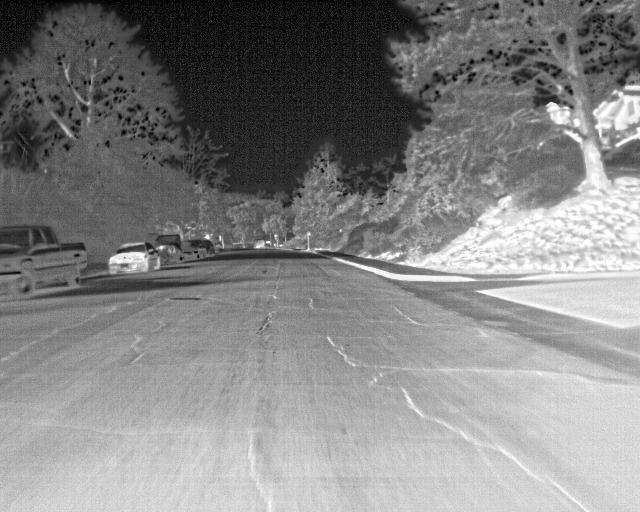car: (0, 223, 92, 300), (108, 240, 158, 276), (159, 241, 190, 269), (190, 237, 217, 259), (253, 237, 266, 250)
